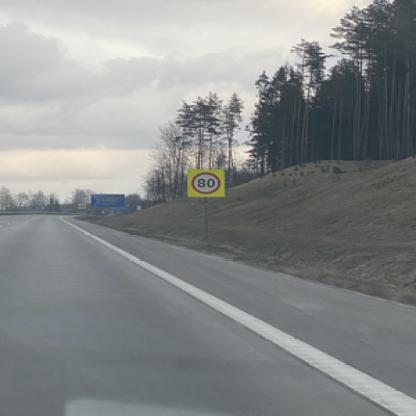speedlimit: (189, 170, 219, 194)
